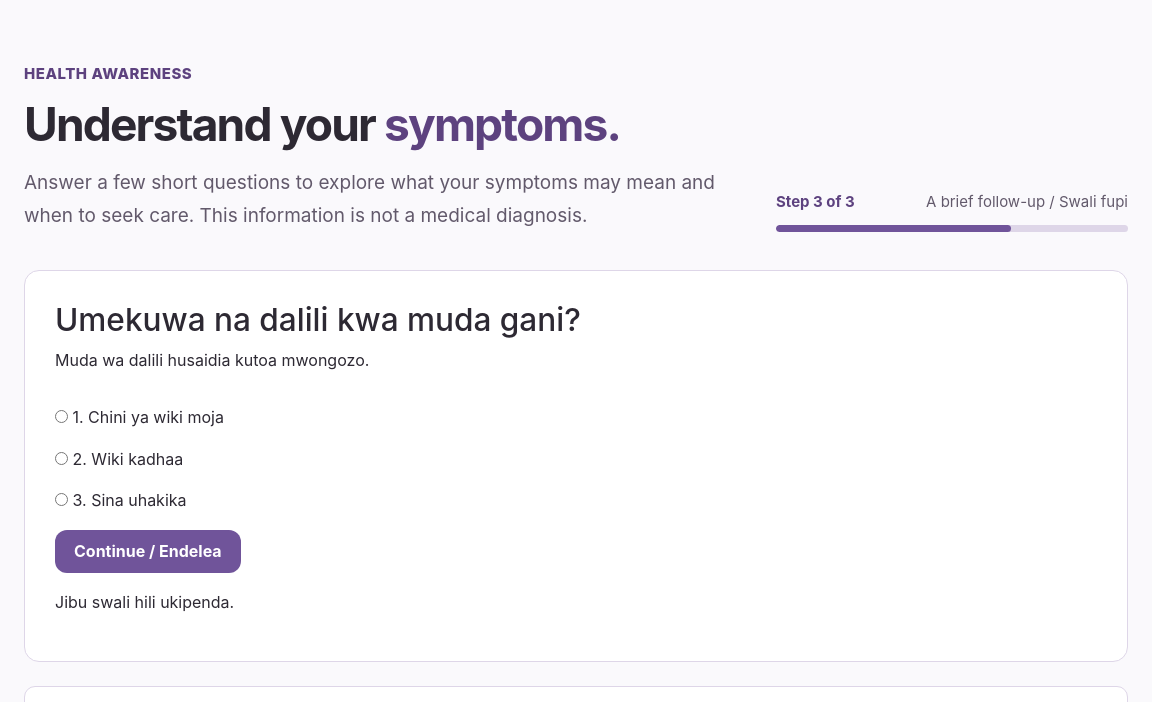
Test: Targeted assessment follow-ups › submits stable question ID and answer with the original demographics and symptoms
Click the radio button labelled "2. Wiki kadhaa" at (62, 458), box [55,452,68,465]
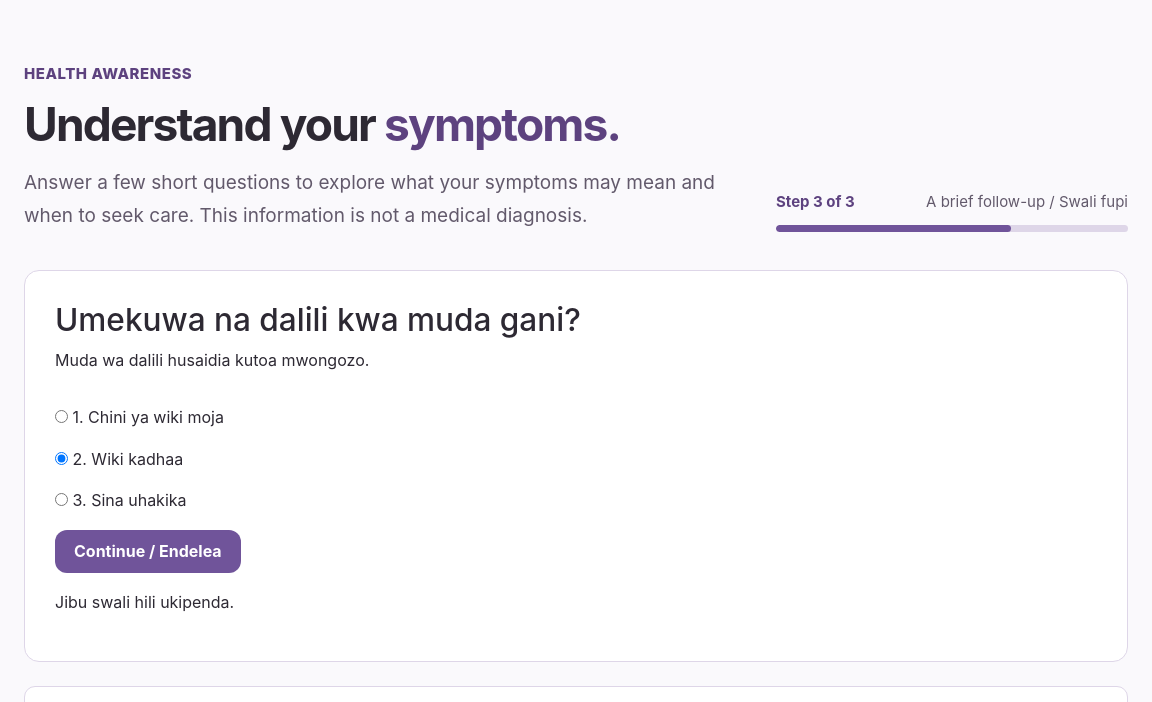
Click the button "Continue / Endelea" at (148, 551), box [55,530,241,573]
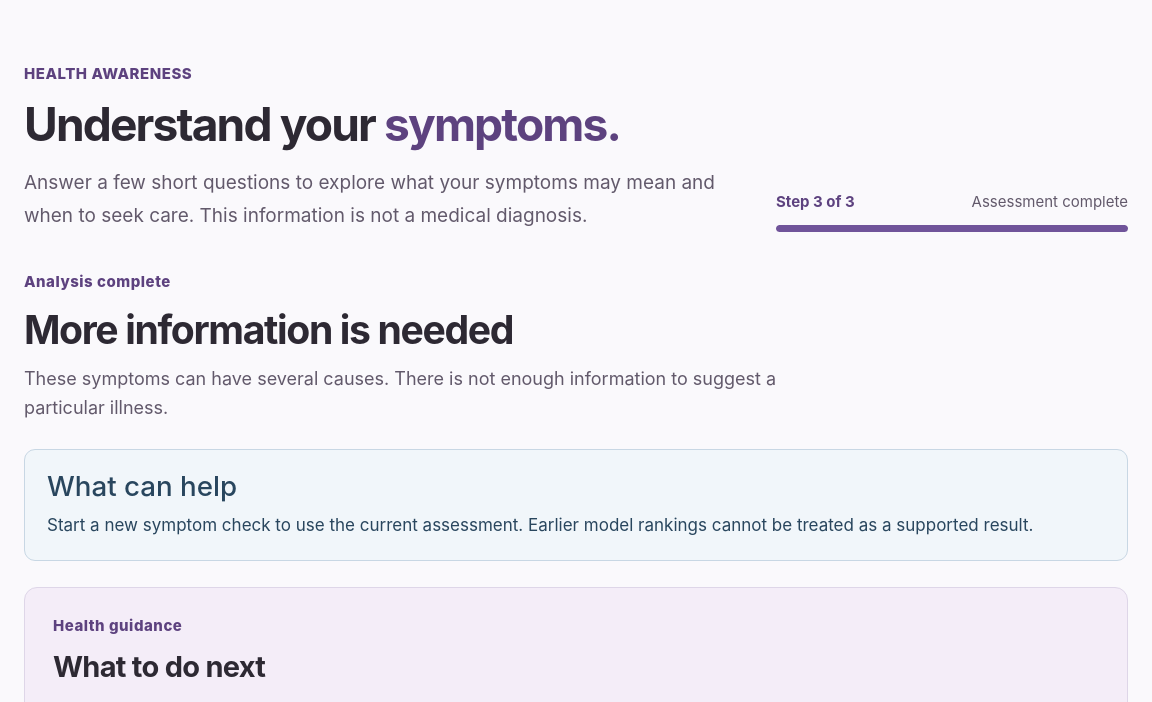
Check: the heading "What can help" is shown, box [47,469,237,503]
